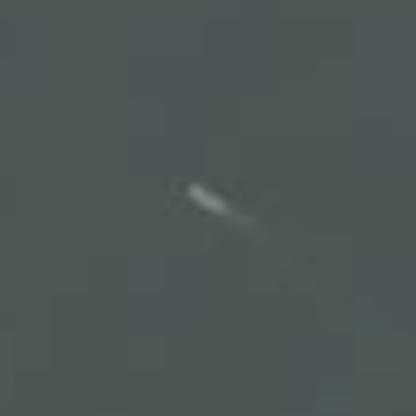ship: (174, 173, 236, 222)
